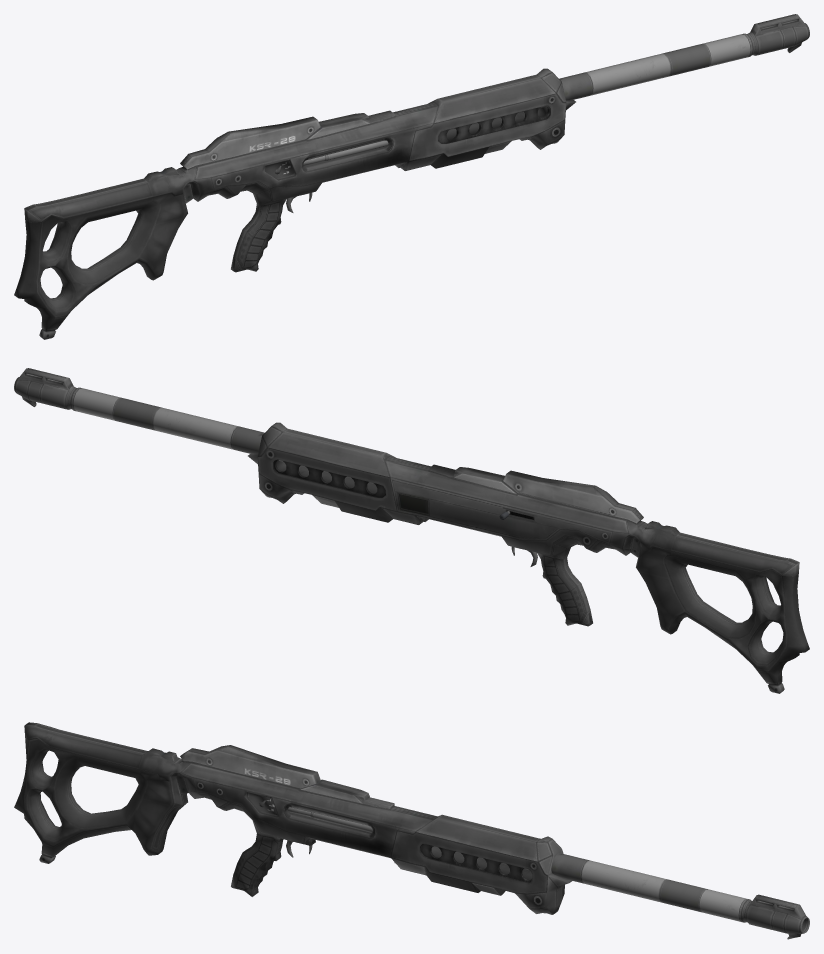
File: sniper.glb
3 renders of one model, top to bottom at view 1: azimuth 30°, elevation 25°; view 2: azimuth 150°, elevation 25°; view 3: azimuth 330°, elevation 25°, orthographic.
Visible parts, largest first — view 1: Sniper_Rifle; view 2: Sniper_Rifle; view 3: Sniper_Rifle.
Part boxes in pixels (x1,y1,x2,y2): Sniper_Rifle: (14,14,809,339); Sniper_Rifle: (14,368,809,693); Sniper_Rifle: (14,722,809,939).
Size of the model in its own units: 9.81 by 1.91 by 0.5424.
1 material, 1 textured.
